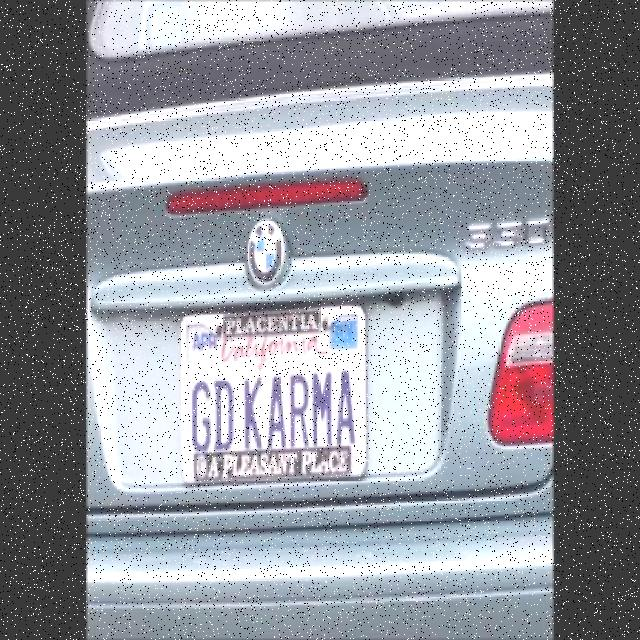licenseplate: (181, 316, 365, 490)
